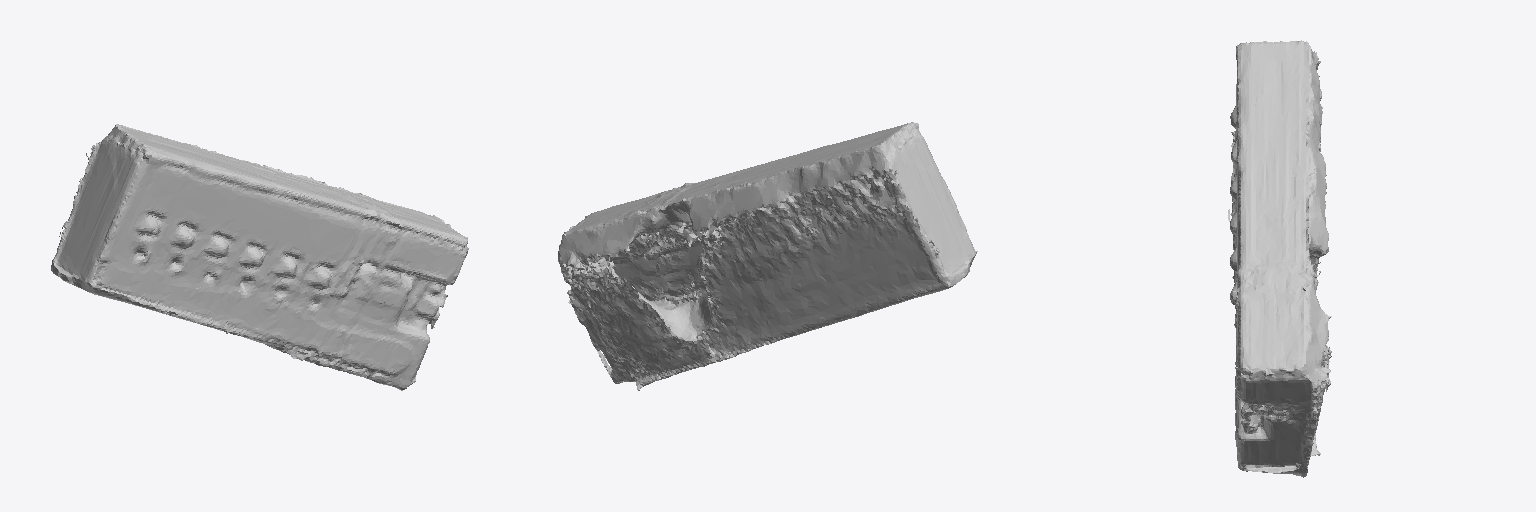
Rendered from Emulator_1.obj.
3 views of the same model, side by side, from view 1: azimuth 30°, elevation 25°; view 2: azimuth 150°, elevation 25°; view 3: azimuth 270°, elevation 25° (orthographic).
Bounding box in the file's own units: 182 × 135 × 41.64.